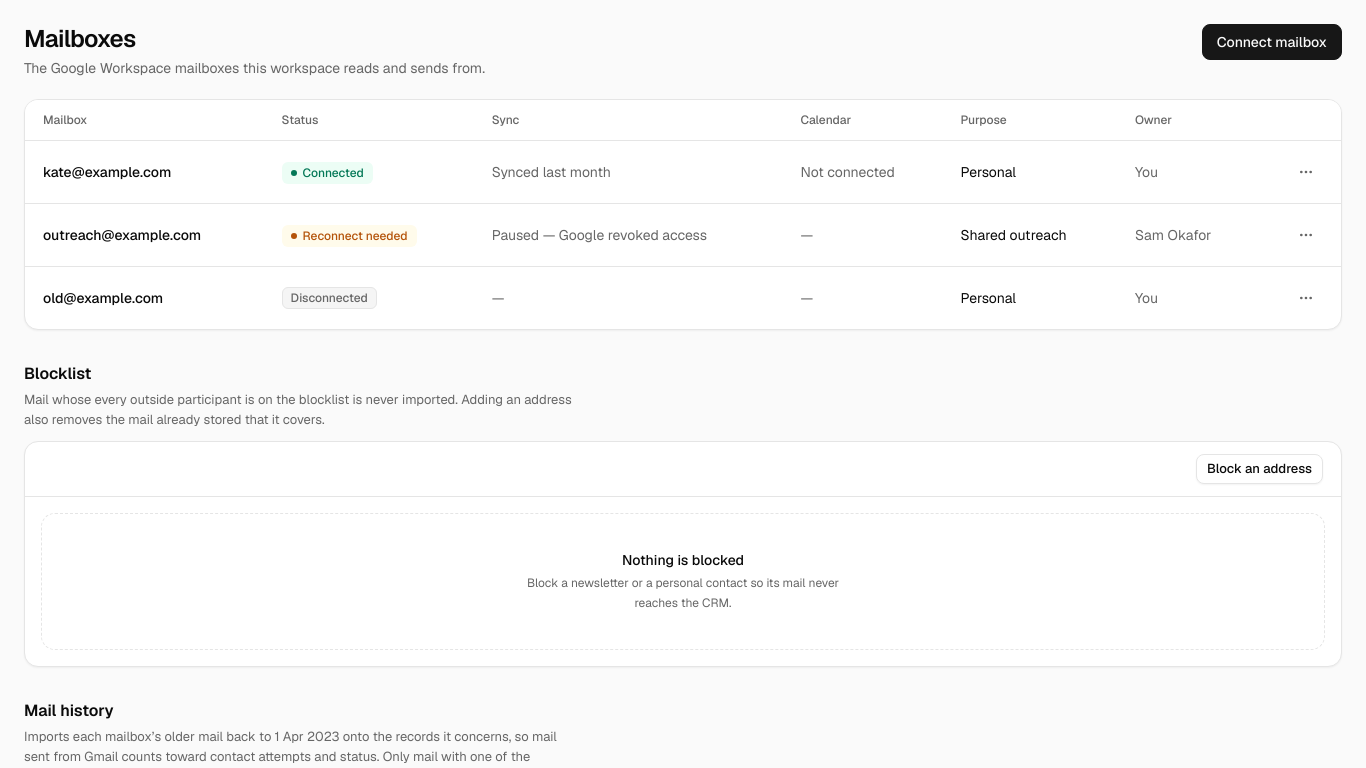
Test: FR-CRMS-1, FR-CRMS-2: each mailbox shows where it stands and its sync › removes a disconnected mailbox only after the page’s own confirmation (#385)
# A connected mailbox is disconnected, never removed outright.
Click the button named "Actions for kate@example.com" at (1306, 172), box [1289, 155, 1323, 189]
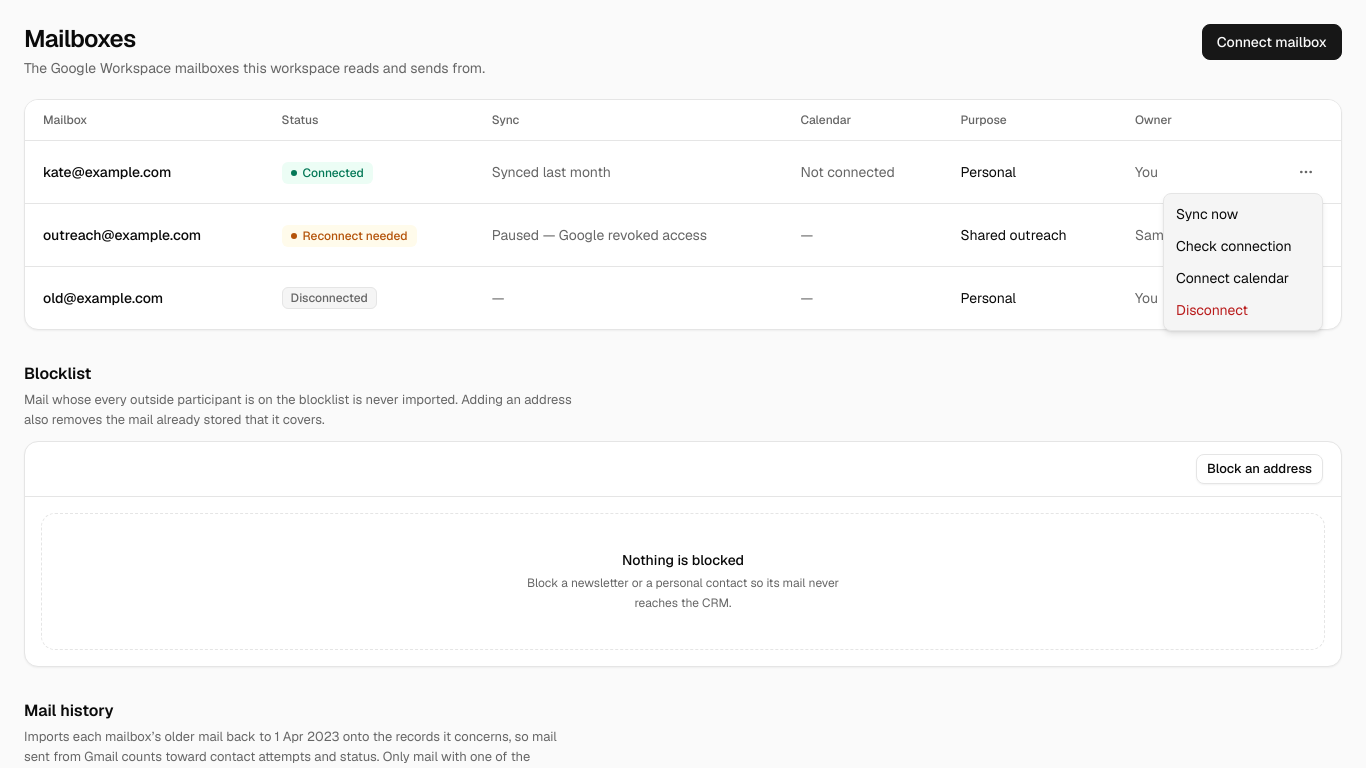
Expected: the menu item "Remove" is not shown
Expected: the menu item "Disconnect" is shown, [1176, 301, 1248, 319]
Press Escape
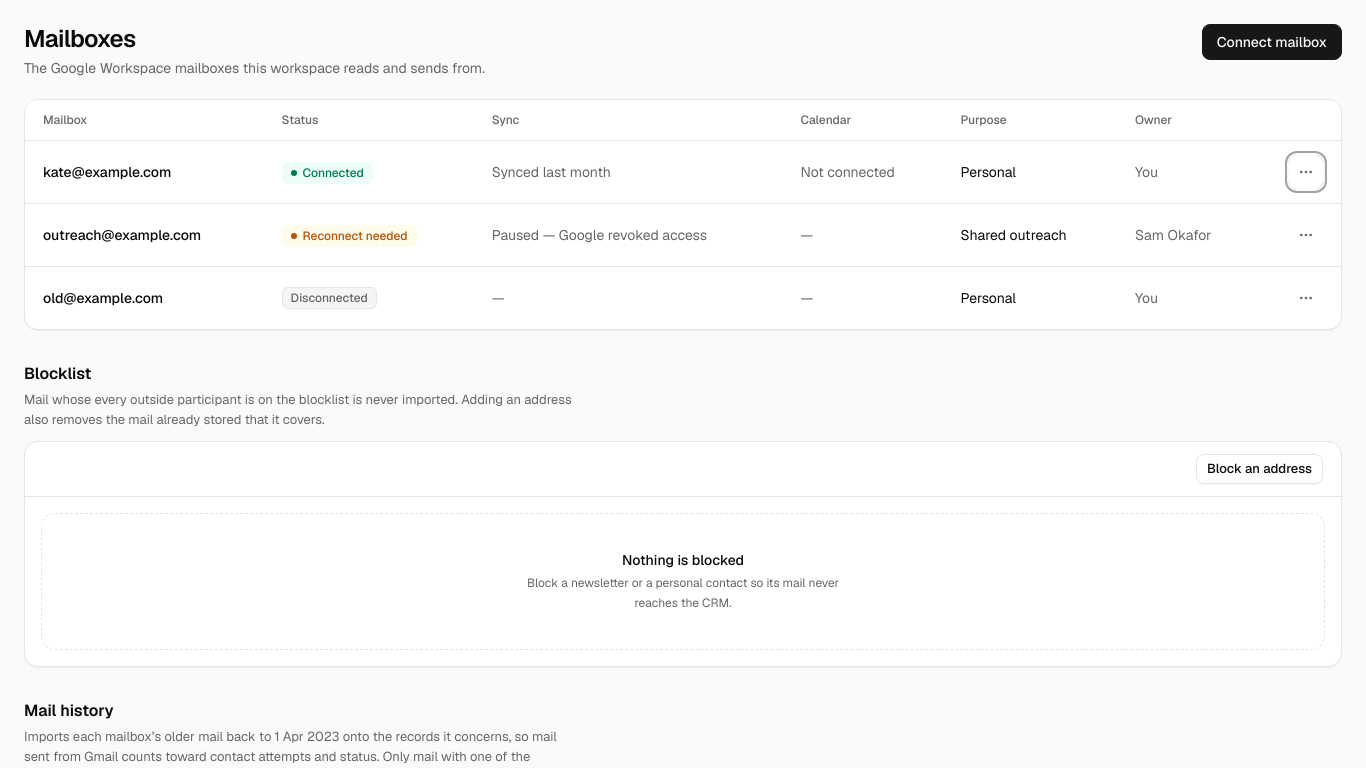
Click the button named "Actions for old@example.com" at (1306, 298), box [1289, 281, 1323, 315]
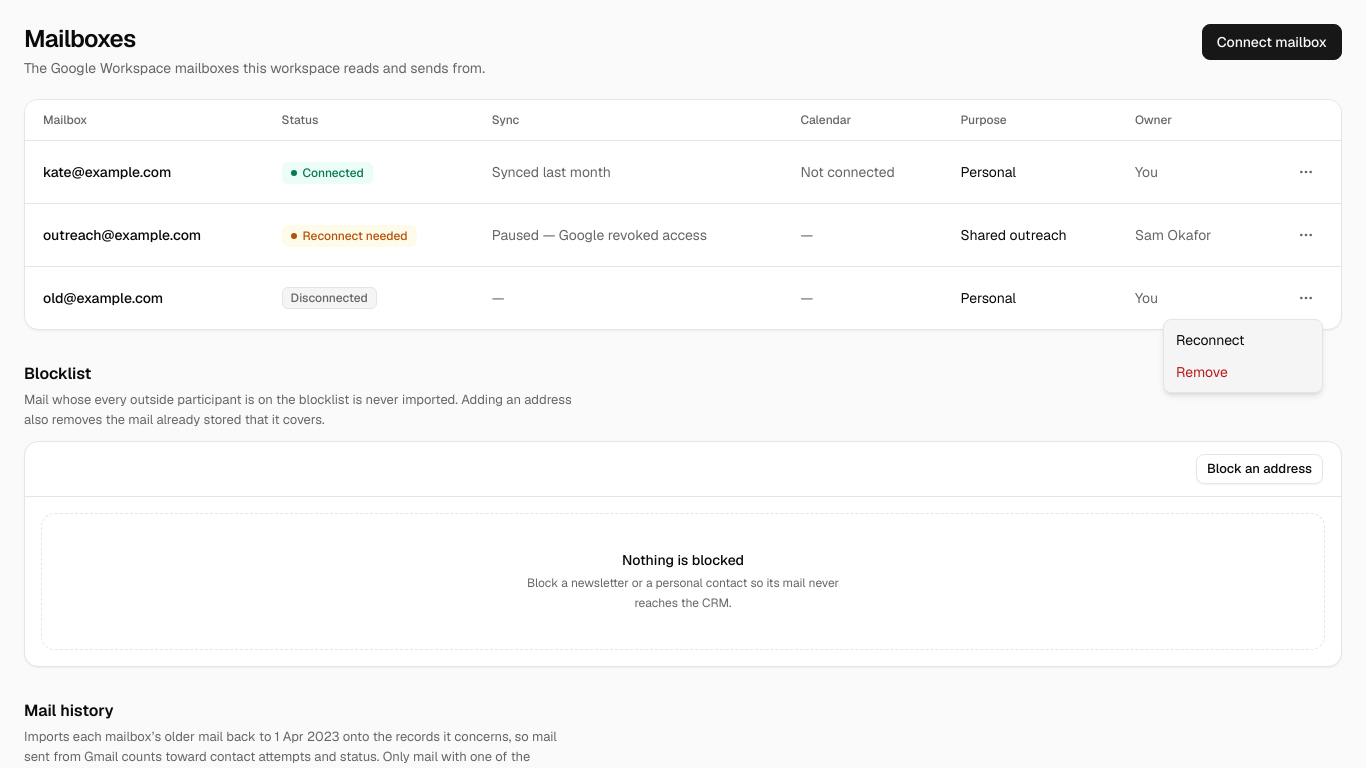
Click the menu item "Remove" at (1202, 372), box [1176, 363, 1228, 381]
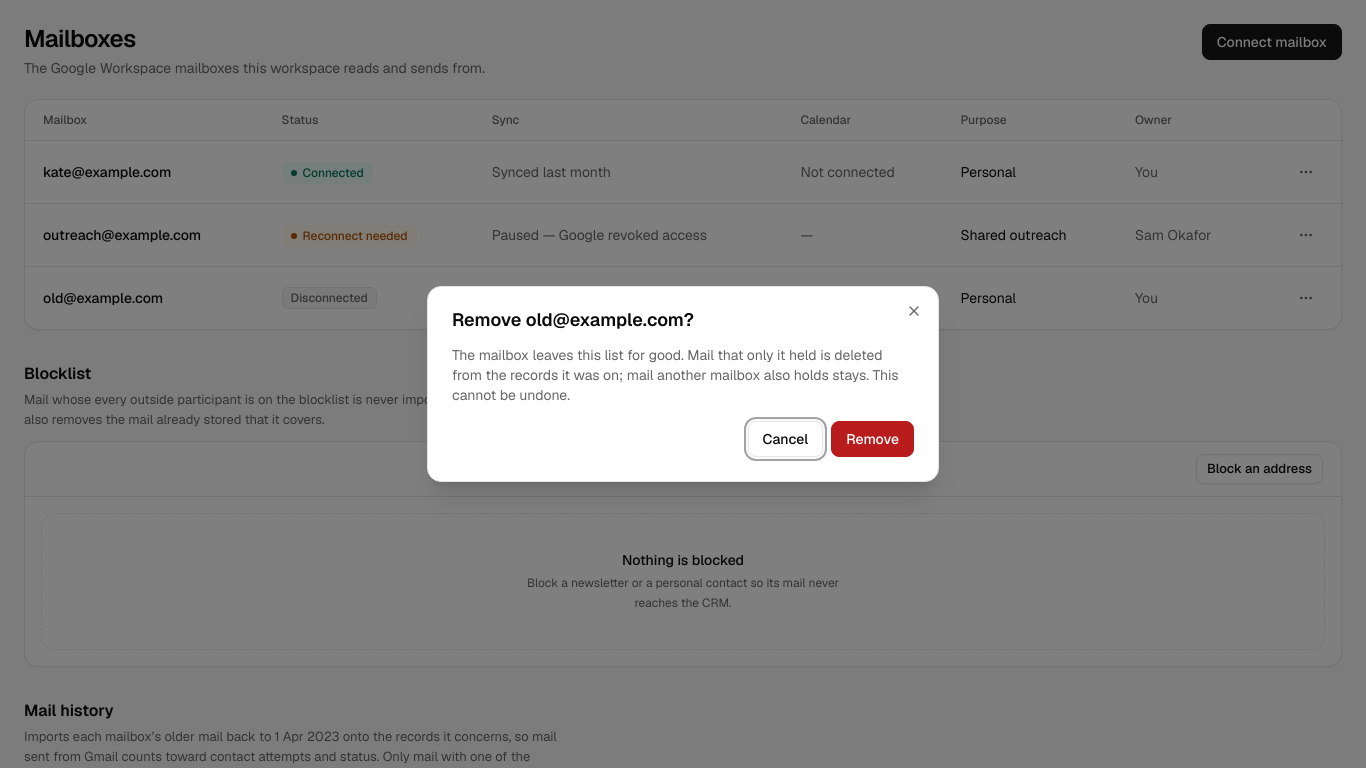
Expected: the text "Mail that only it held is deleted" is shown, [452, 346, 898, 404]
Click the button "Remove" at (873, 439), box [831, 421, 914, 457]
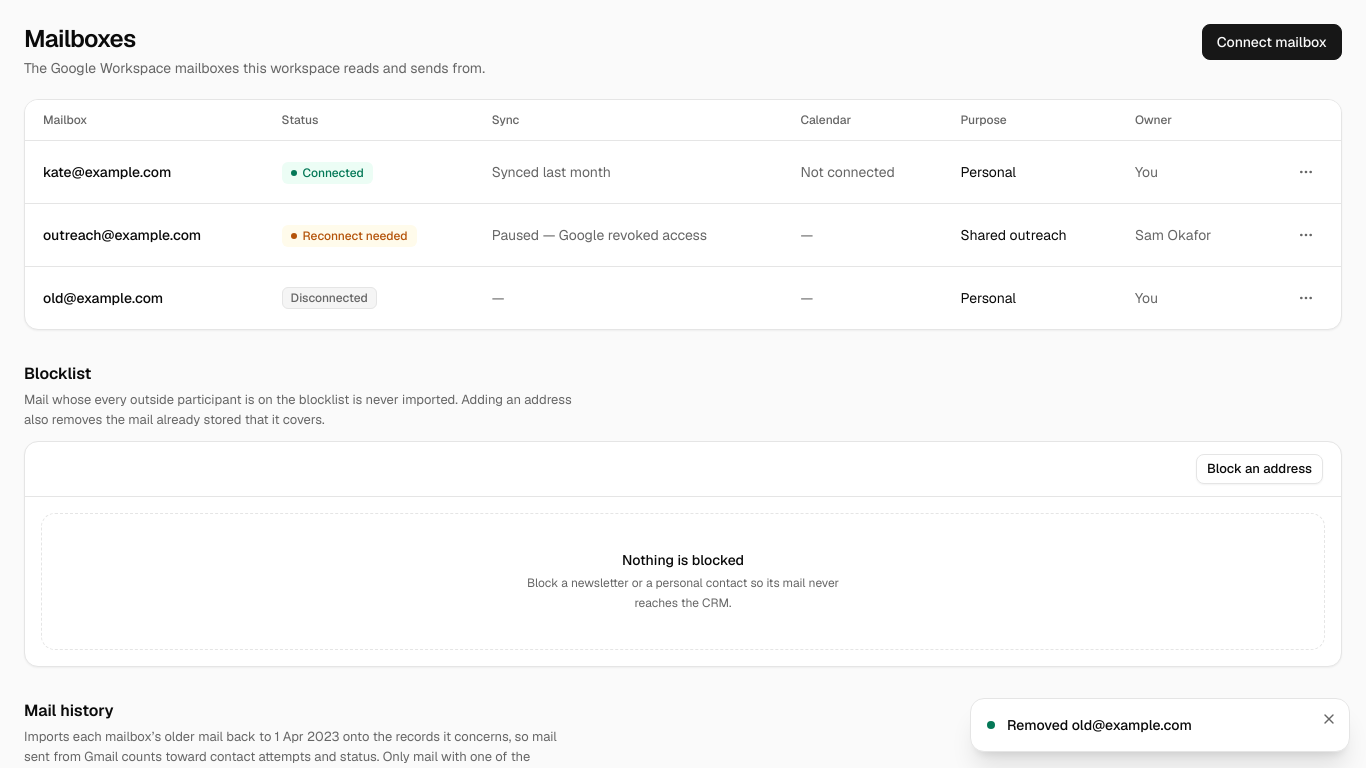
Expected: the text "Removed old@example.com" is shown, [1007, 715, 1192, 735]
